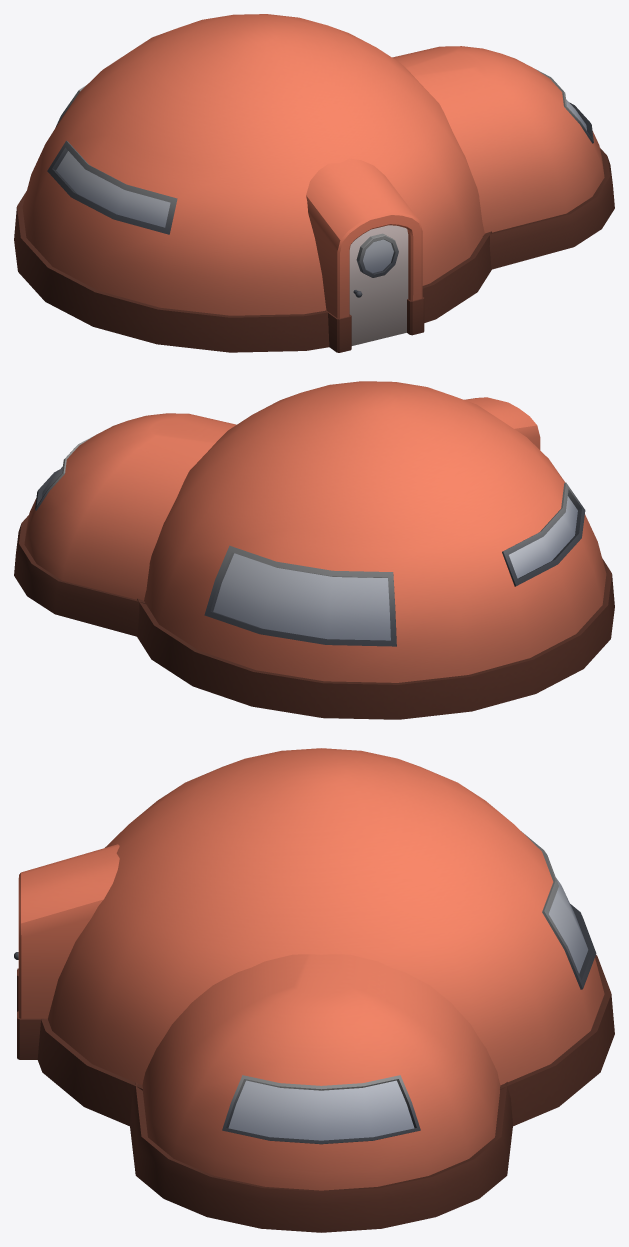
The model's file is SM_House_05.fbx.
3 views of the same model, one above another, from view 1: azimuth 30°, elevation 25°; view 2: azimuth 150°, elevation 25°; view 3: azimuth 270°, elevation 25° (orthographic). The views are drawn at different scales.
Visible parts, largest first — view 1: House_05; view 2: House_05; view 3: House_05.
Boxes of the visible parts, box(x1,y1,x2,y2) form: House_05: box(14, 14, 614, 352); House_05: box(14, 381, 614, 719); House_05: box(14, 748, 614, 1232).
Size of the model in its own units: 790 by 299 by 620.
